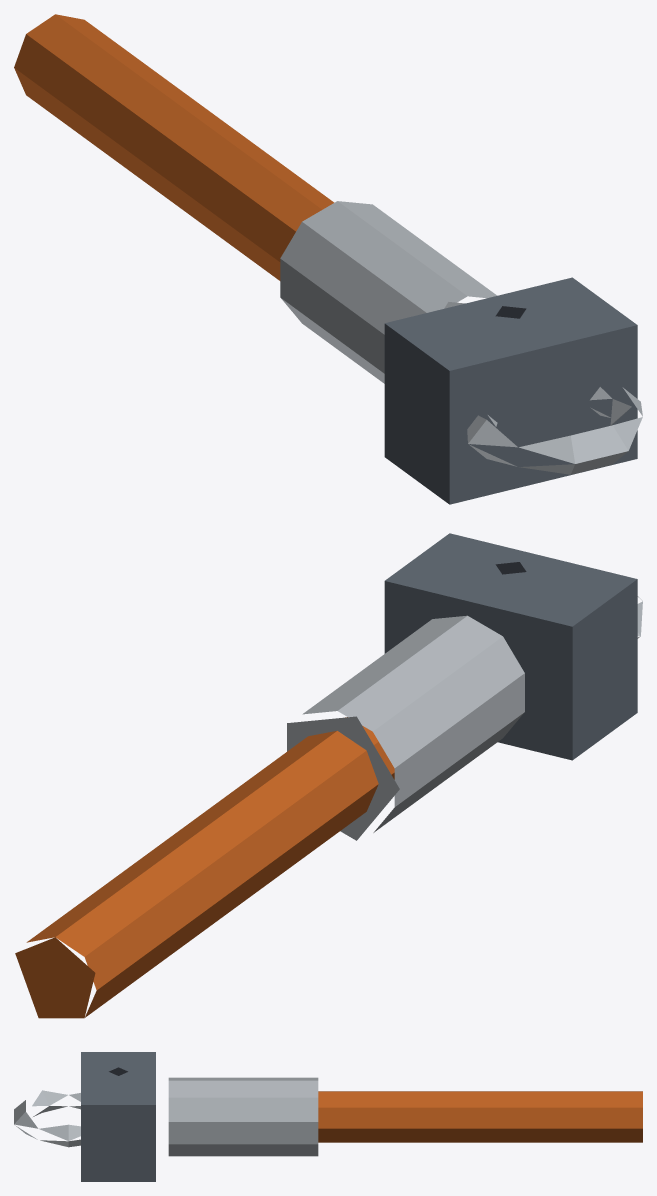
File: hydrospanner.lod.glb
3 views of the same model, one above another, from view 1: azimuth 30°, elevation 25°; view 2: azimuth 150°, elevation 25°; view 3: azimuth 270°, elevation 25° (orthographic). The views are drawn at different scales.
Visible parts, largest first — view 1: m; view 2: m; view 3: m.
Part boxes in pixels (x1=…): m: x1=14, y1=14, x2=642, y2=504; m: x1=15, y1=533, x2=642, y2=1018; m: x1=14, y1=1052, x2=642, y2=1181.
Size of the model in its own units: 0.0397 by 0.0318 by 0.2.
